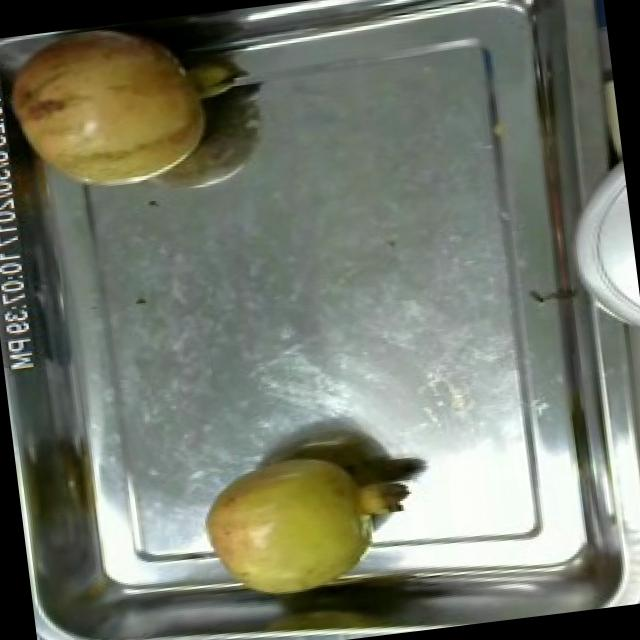fruit: (0, 9, 248, 213), (185, 438, 417, 608), (80, 629, 187, 640)
